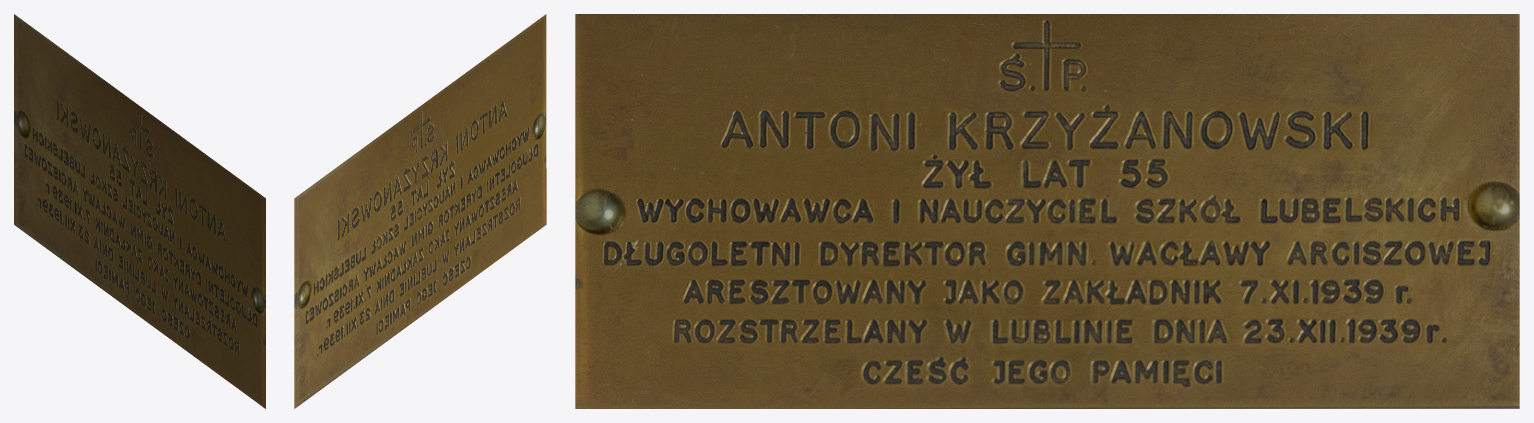
The model's file is 81. Ś.P. ANTONI KRZYŻANOWSKI.glb.
3 renders of one model, left to right at view 1: azimuth 30°, elevation 25°; view 2: azimuth 150°, elevation 25°; view 3: azimuth 270°, elevation 25°, orthographic. The views are drawn at different scales.
Visible parts, largest first — view 1: Plane; view 2: Plane; view 3: Plane.
Boxes of the visible parts, x1,y1,x2,y2 form: Plane: (14,14,265,408); Plane: (294,14,546,408); Plane: (575,14,1519,408).
Bounding box in the file's own units: 0.0102 × 6 × 13.
Materials: 1 (1 with a texture image).
